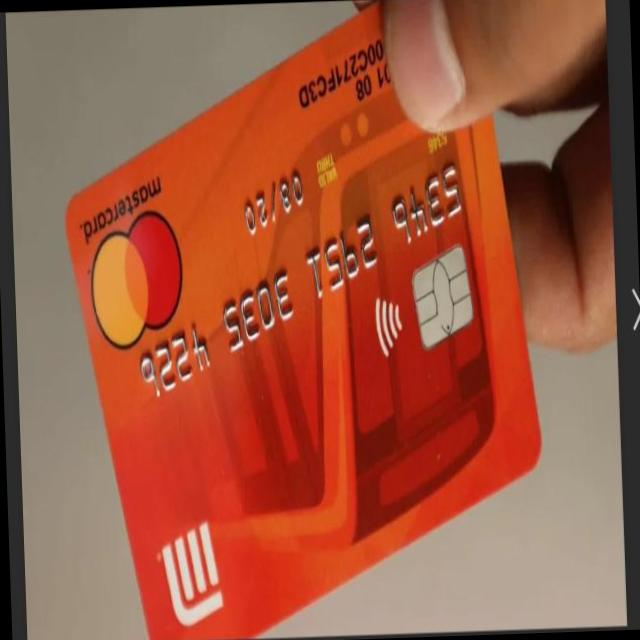card: (55, 0, 537, 640)
